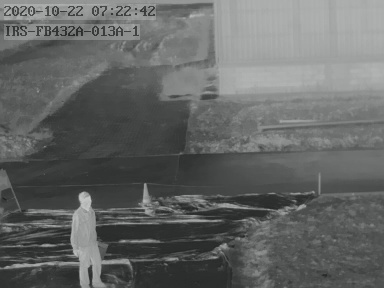person: (71, 191, 107, 288)
